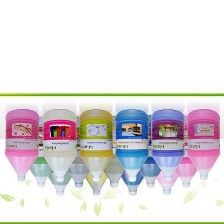cleaning_solution: (57, 114, 98, 189), (19, 114, 59, 190), (40, 106, 78, 183), (183, 107, 221, 183), (3, 107, 41, 183), (169, 113, 205, 191), (113, 107, 149, 183), (78, 107, 114, 183), (133, 115, 169, 191), (149, 107, 185, 182), (97, 115, 133, 190), (149, 133, 184, 200), (42, 133, 78, 198), (113, 133, 149, 197), (78, 133, 112, 199)
